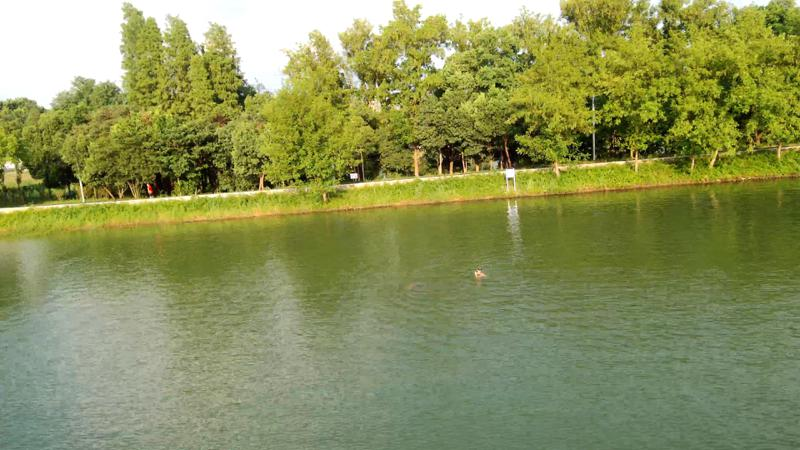passerby: (143, 181, 156, 198)
swimmers: (471, 264, 490, 280)
